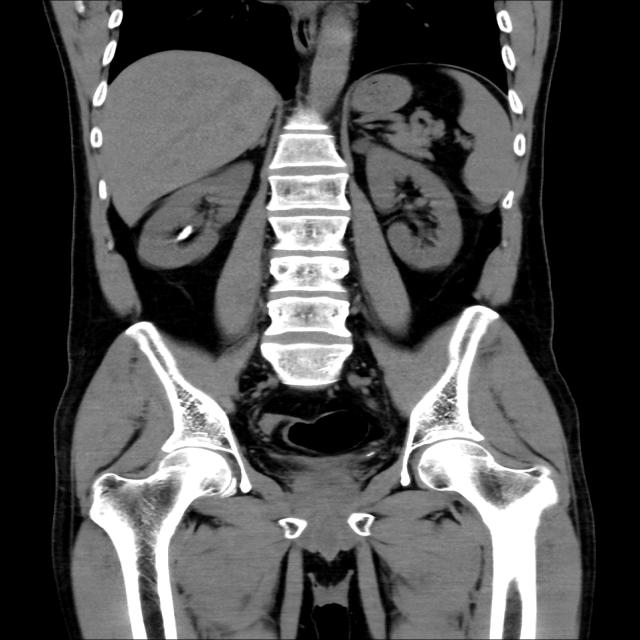kidneystone: (175, 225, 194, 242)
